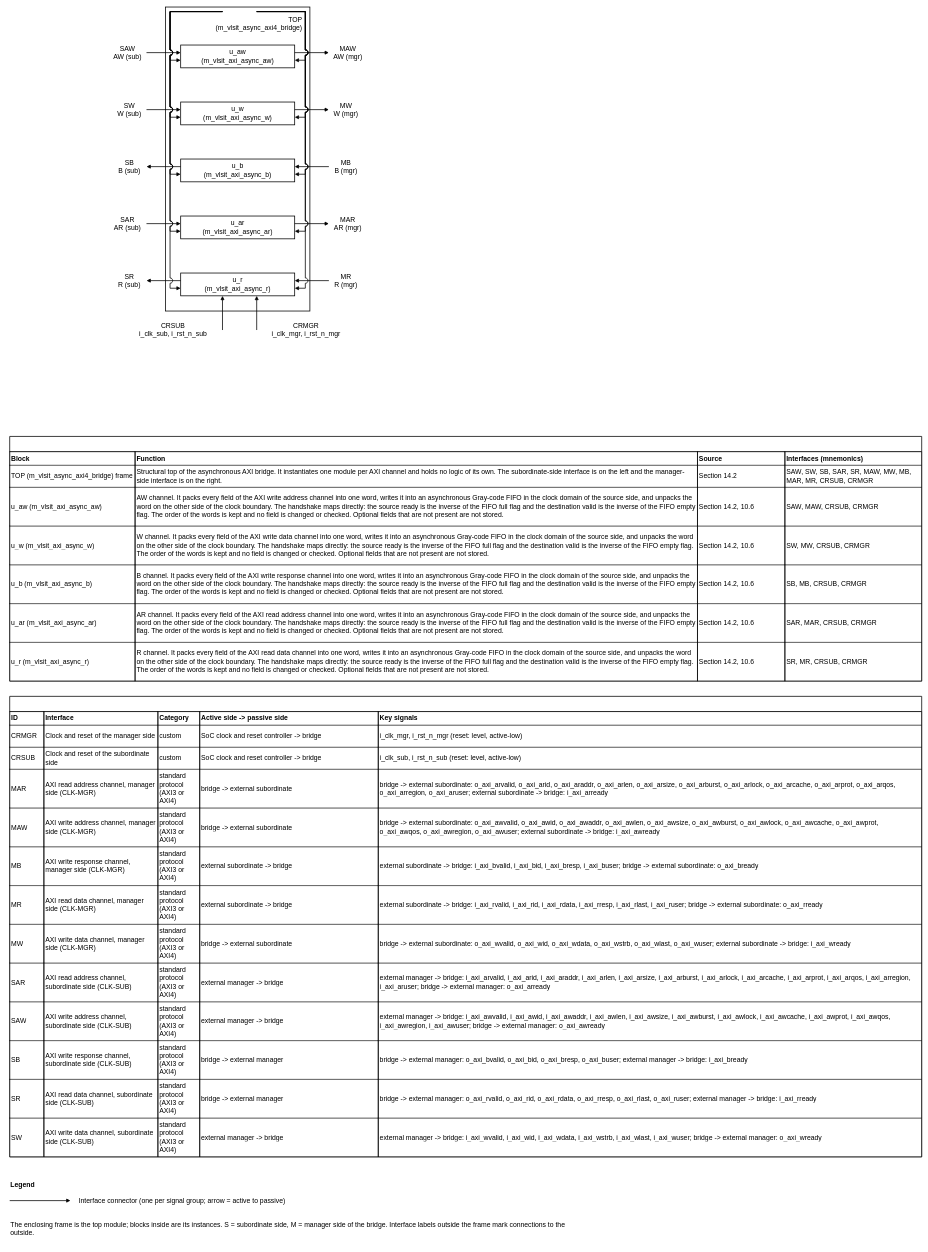
The diagram is 928 pixels wide and 1252 high, and some of its shapes have lost their labels. The shapes that lost their labels are listed below. From the top down, each one's box as (x1, y1, x2, y2) in pixels, then its label:
(9, 436, 922, 681): Block Functions & Interfaces
(9, 696, 922, 1157): Interface Table
